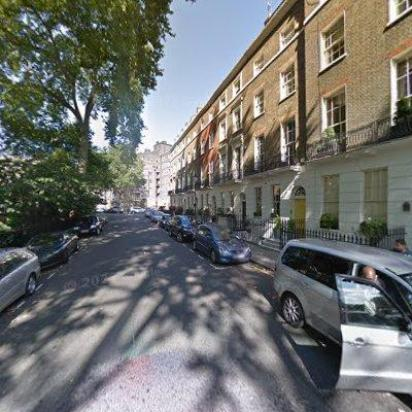stationary-car-onstreet: (271, 236, 411, 388), (0, 248, 42, 316), (192, 223, 252, 265), (24, 229, 80, 271), (71, 209, 107, 236), (170, 213, 194, 240), (158, 214, 174, 232), (152, 211, 168, 225)
